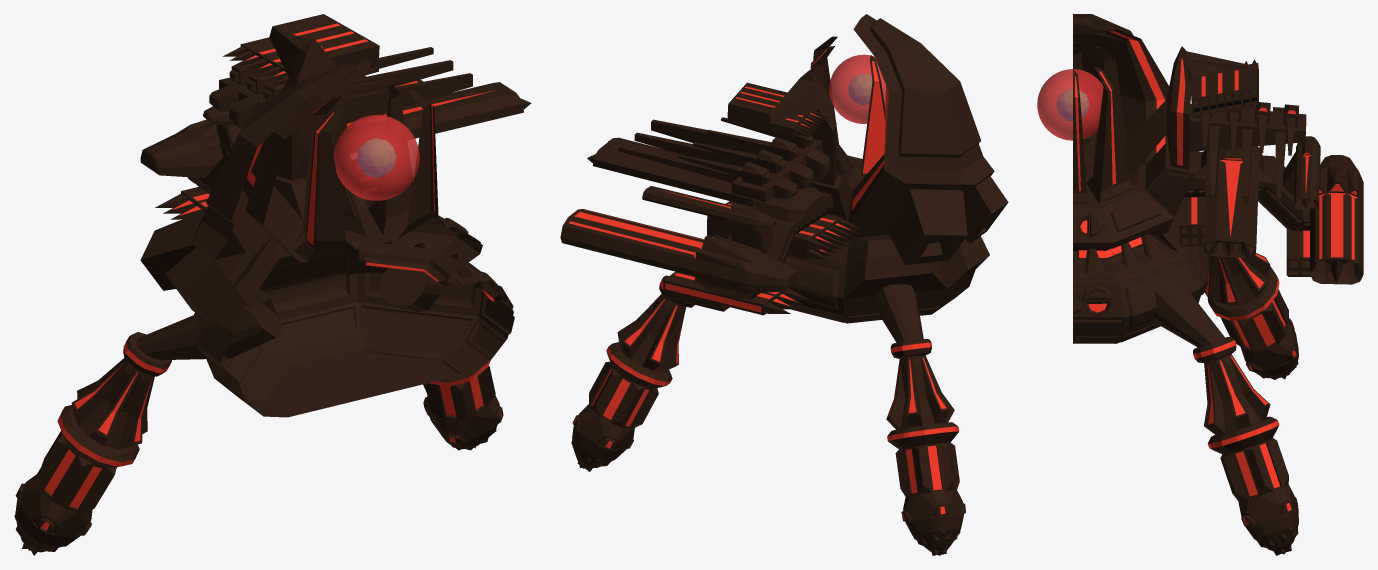
File: BossCrab.glb
3 views of the same model, side by side, from view 1: azimuth 30°, elevation 25°; view 2: azimuth 150°, elevation 25°; view 3: azimuth 270°, elevation 25° (orthographic). The views are drawn at different scales.
Visible parts, largest first — view 1: Cube, Icosphere; view 2: Cube, Icosphere; view 3: Cube, Icosphere.
Part boxes in pixels (x1=…): Cube: x1=14, y1=14, x2=531, y2=555; Icosphere: x1=334, y1=115, x2=419, y2=200; Cube: x1=560, y1=14, x2=1008, y2=555; Icosphere: x1=829, y1=54, x2=885, y2=123; Cube: x1=1073, y1=14, x2=1363, y2=555; Icosphere: x1=1037, y1=69, x2=1103, y2=140.
Size of the model in its own units: 12.7 by 13.58 by 9.13.
